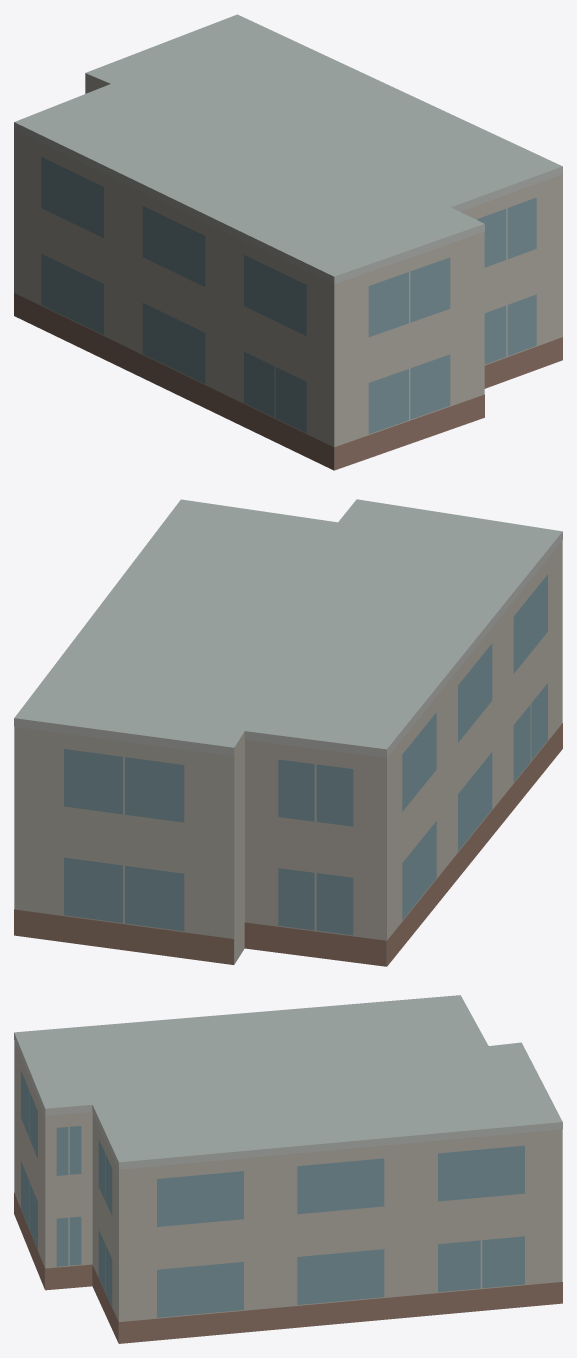
Rendered from survey-upis-32852086.glb.
3 renders of one model, top to bottom at view 1: azimuth 30°, elevation 25°; view 2: azimuth 150°, elevation 25°; view 3: azimuth 270°, elevation 25°, orthographic. The views are drawn at different scales.
Parts seen in each view (by area): view 1: survey-upis-32852086.tmp; view 2: survey-upis-32852086.tmp; view 3: survey-upis-32852086.tmp.
Boxes of the visible parts, x1,y1,x2,y2 form: survey-upis-32852086.tmp: (14, 14, 562, 470); survey-upis-32852086.tmp: (14, 499, 562, 966); survey-upis-32852086.tmp: (14, 995, 562, 1343).
Size of the model in its own units: 12.07 by 6.1 by 16.72.
